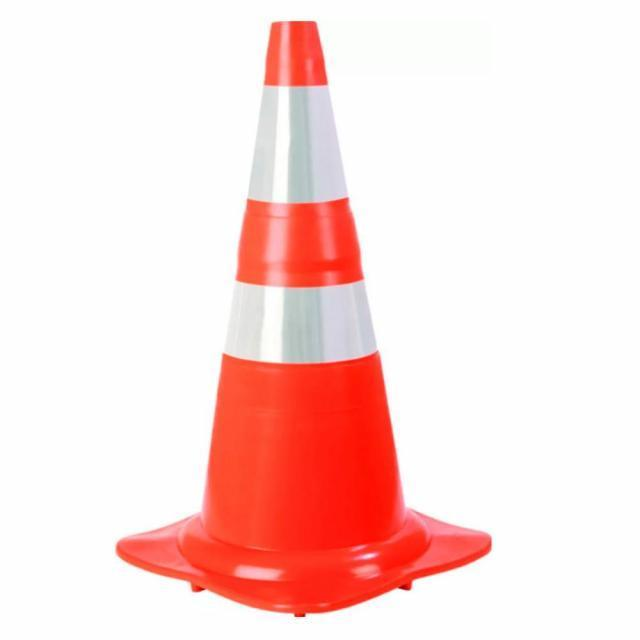traffic cone: (114, 18, 493, 619)
